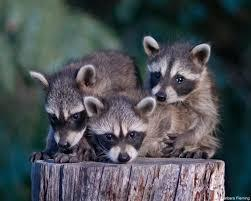raccoon: (19, 42, 148, 172), (128, 26, 227, 175), (75, 80, 163, 179)
